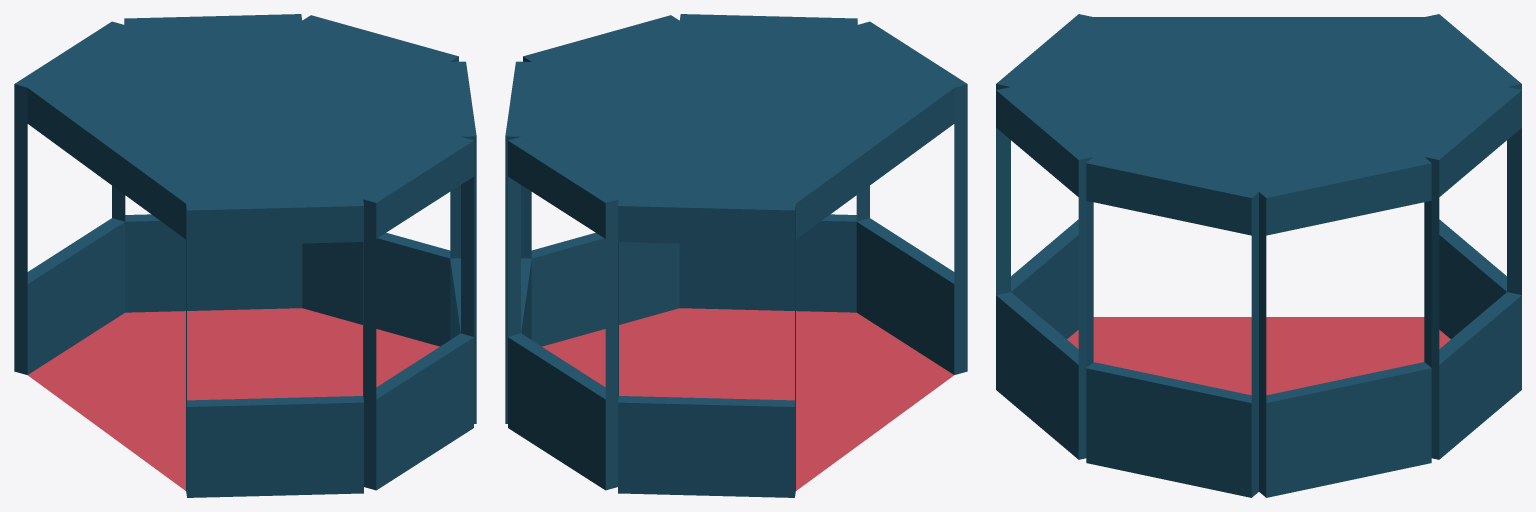
Rendered from safe_zone.gltf.
3 views of the same model, side by side, from view 1: azimuth 30°, elevation 25°; view 2: azimuth 150°, elevation 25°; view 3: azimuth 270°, elevation 25° (orthographic). The views are drawn at different scales.
Parts seen in each view (by area): view 1: safe_zone; view 2: safe_zone; view 3: safe_zone.
Boxes of the visible parts, x1=… form: safe_zone: x1=14, y1=14, x2=476, y2=497; safe_zone: x1=505, y1=14, x2=967, y2=497; safe_zone: x1=996, y1=14, x2=1521, y2=497.
Bounding box in the file's own units: 2.63 × 2 × 3.18.
Materials: 1 (1 with a texture image).
